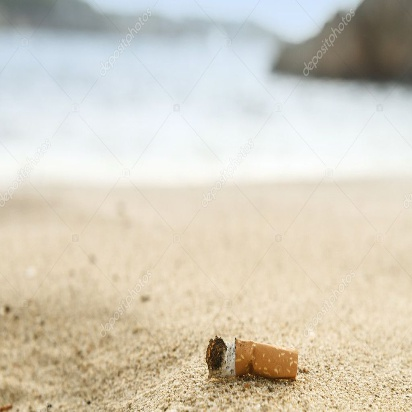cigarette: (203, 335, 305, 388)
